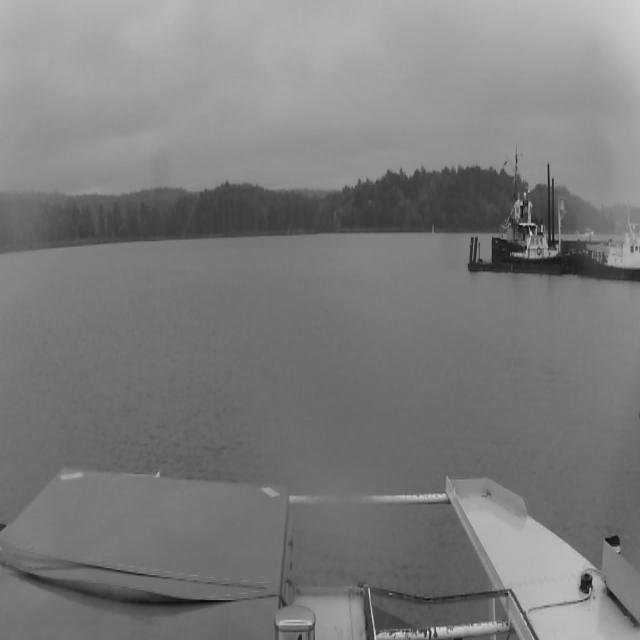ship: (493, 145, 567, 267), (566, 224, 636, 284)
